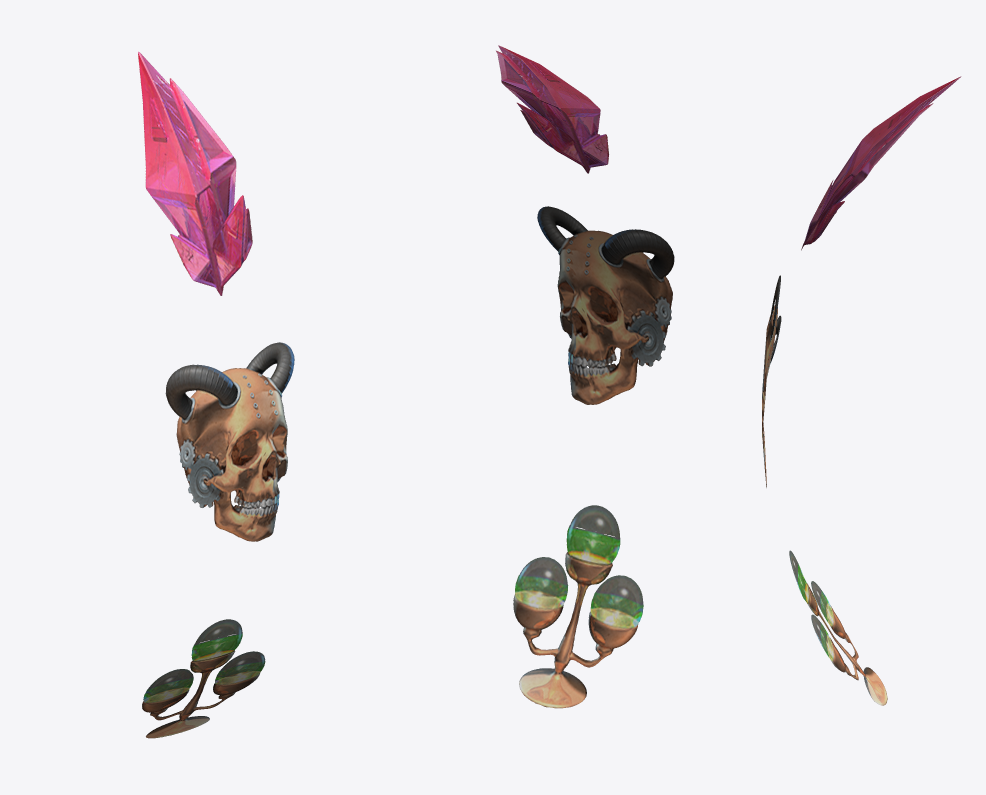
Rendered from LightSymbol.FBX.
3 views of the same model, side by side, from view 1: azimuth 30°, elevation 25°; view 2: azimuth 150°, elevation 25°; view 3: azimuth 270°, elevation 25° (orthographic). The views are drawn at different scales.
Visible parts, largest first — view 1: Object010; view 2: Object010; view 3: Object010.
Part boxes in pixels (<box>): Object010: <box>138,51,294,738</box>; Object010: <box>496,45,674,708</box>; Object010: <box>762,76,961,705</box>.
Size of the model in its own units: 6.84 by 19.96 by 5.74.
